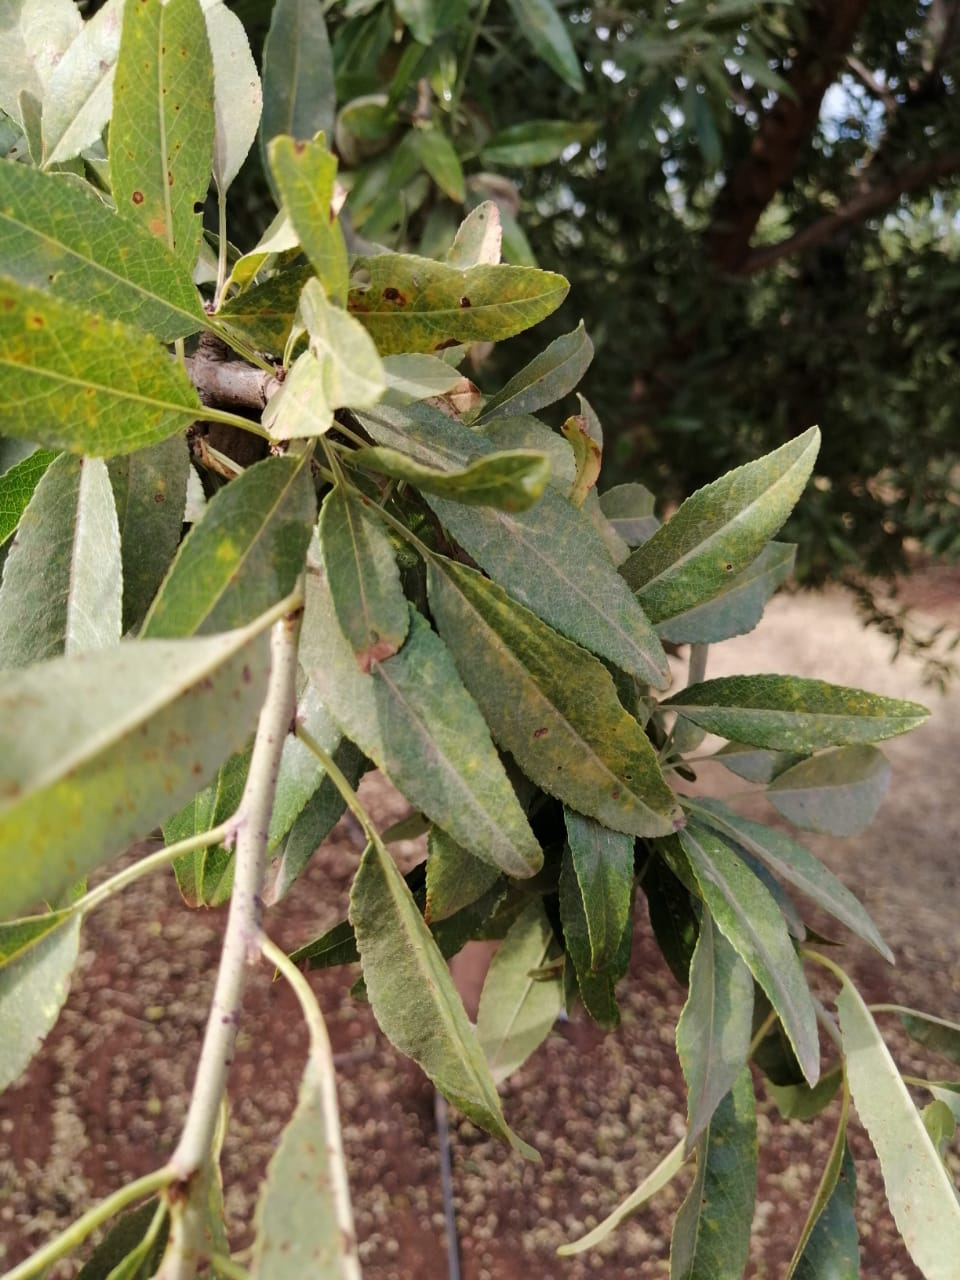rouille: (11, 621, 286, 922), (421, 548, 688, 841), (345, 835, 522, 1153), (618, 422, 824, 625), (6, 272, 206, 460), (113, 2, 215, 265), (253, 1053, 363, 1276), (663, 673, 933, 761), (346, 254, 572, 354), (318, 481, 411, 668), (264, 131, 351, 299), (559, 394, 606, 506)
